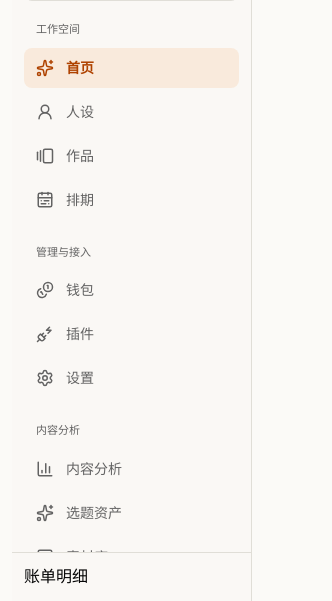
Scenario: Sidebar › navigates from the authenticated shell without breaking external stores or tooltips
The image size is (332, 601).
Click the link "人设" at point(65, 112), box top-left (36, 102), bottom-right (94, 120)
(page scrolled)
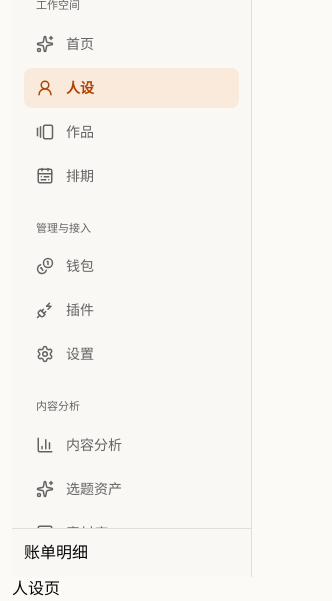
Expected: the heading "人设页" is shown, top-left (12, 580), bottom-right (60, 597)
